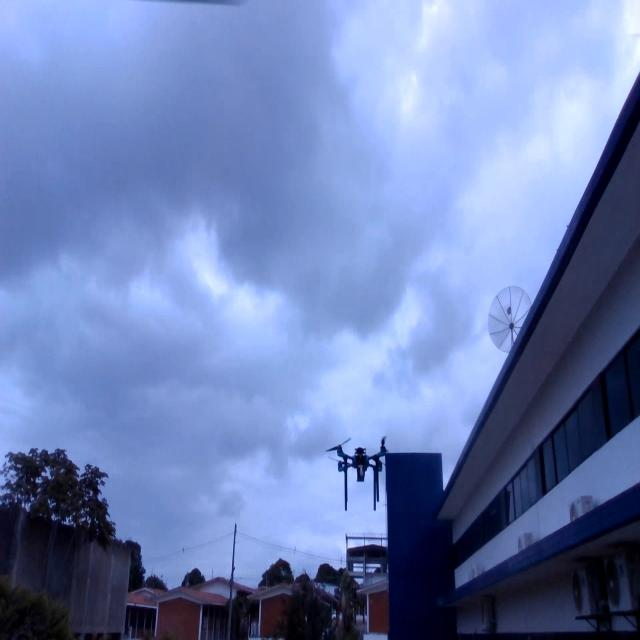-uav-: (320, 419, 393, 516)
